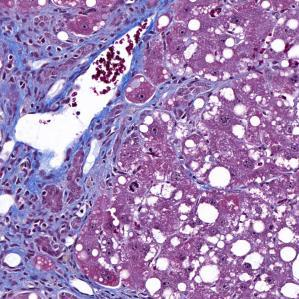fibrosis: (2, 162, 84, 273), (0, 13, 88, 109), (102, 96, 146, 150)
